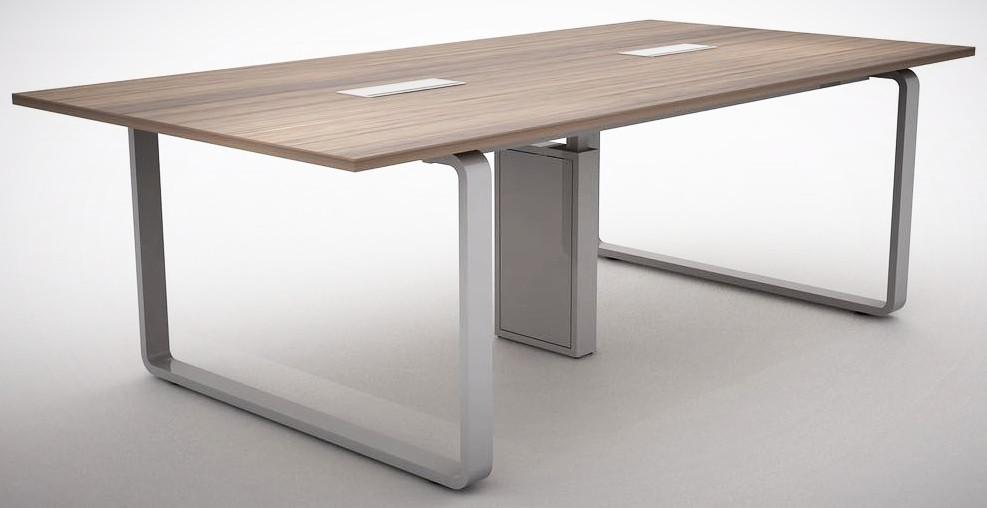conference_table: (11, 18, 977, 491)
